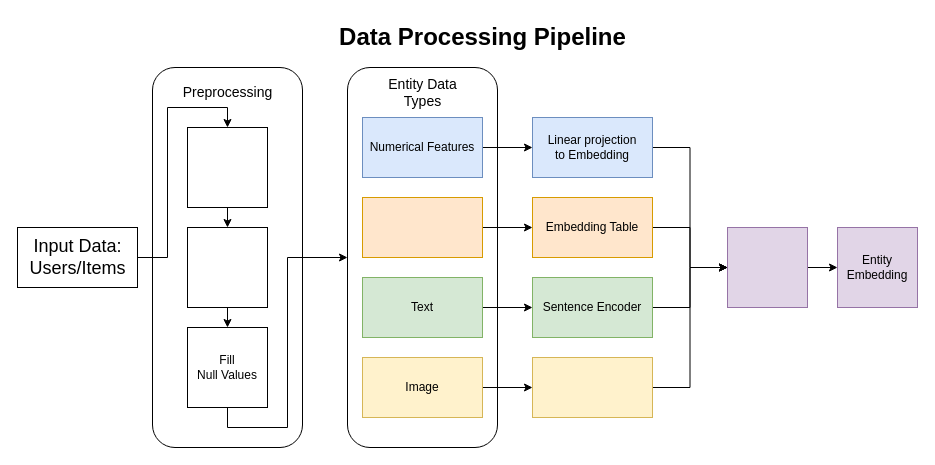
The diagram is 935 pixels wide and 465 high, and some of its shapes have lost their labels. The shapes that lost their labels are listed below. From the top down, each one's centre as x and y in pixels, then its label:
(x=227, y=167): Clean Data
(x=422, y=227): Categorical Features
(x=227, y=267): Remove Duplicates
(x=767, y=267): Concatenate
(x=592, y=387): Image encoder
